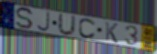3: (124, 25, 139, 46)
C: (78, 17, 97, 40)
J: (35, 11, 51, 33)
K: (104, 20, 119, 44)
S: (15, 7, 34, 30)
U: (57, 13, 77, 37)
